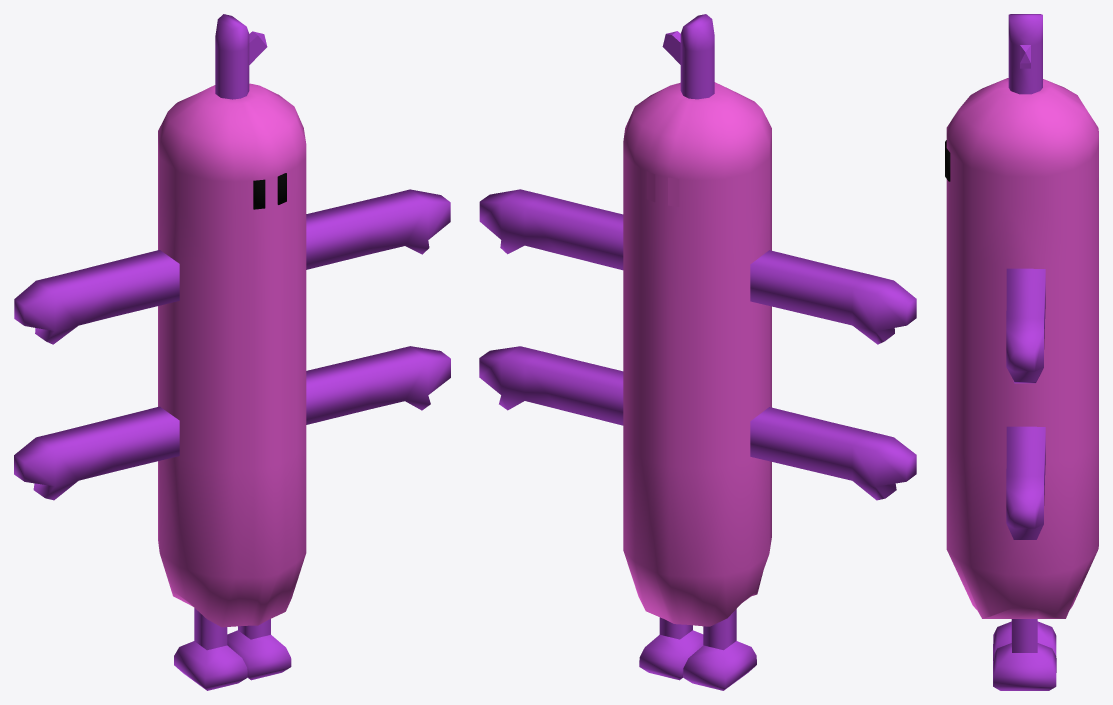
File: Personagem_2.FBX
The picture shows the model from 3 angles, left to right: view 1: azimuth 30°, elevation 25°; view 2: azimuth 150°, elevation 25°; view 3: azimuth 270°, elevation 25°; orthographic projection.
Parts seen in each view (by area): view 1: Corpo; view 2: Corpo; view 3: Corpo.
Part boxes in pixels (x1,y1,x2,y2): Corpo: (14,14,450,690); Corpo: (479,14,916,690); Corpo: (945,14,1098,690).
Size of the model in its own units: 4.02 by 5.88 by 1.25.
